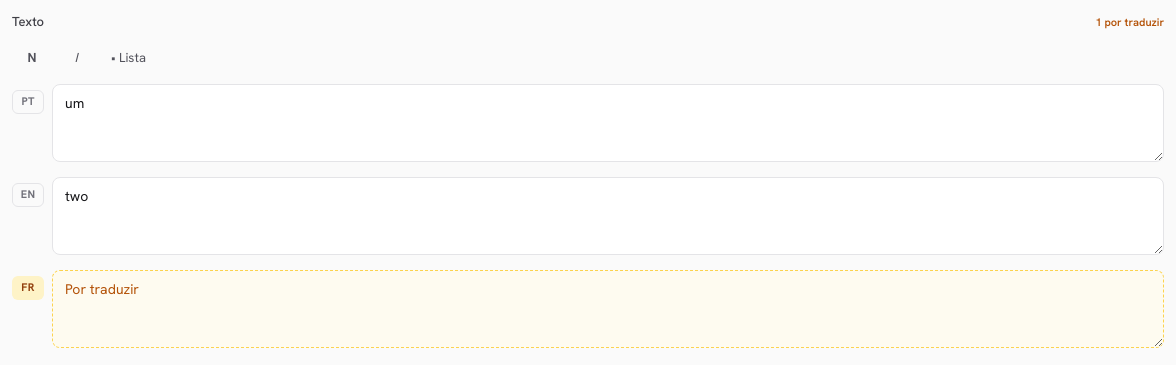
Test: md · barra Negrito · Itálico · Lista › com i18n actua na caixa que tem o foco, não nas outras
Step 1. Click the button named "Itálico" → (76, 58), box [56,38,96,78]
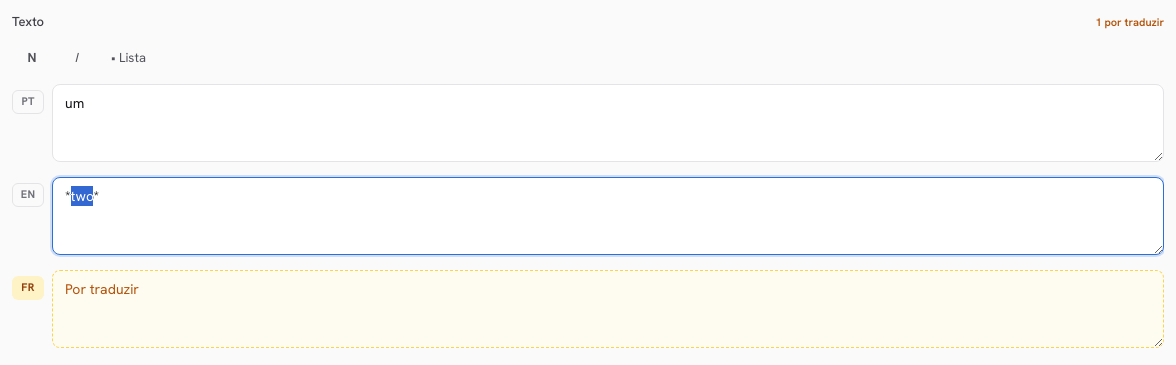
Expected: the text box named "Texto (PT)" holds "um", [52,84,1164,162]
Expected: the text box named "Texto (EN)" holds "*two*", [52,176,1164,254]
